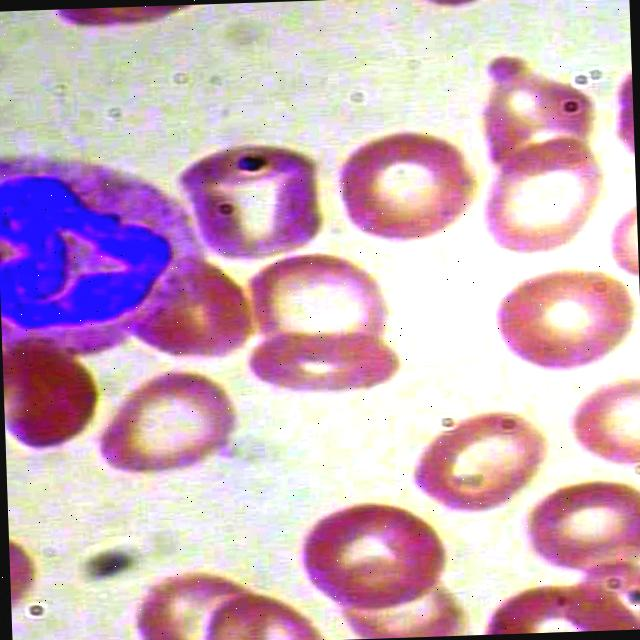RBC: (170, 139, 330, 270), (84, 358, 240, 481), (291, 496, 447, 618), (391, 396, 546, 518), (327, 125, 483, 246), (241, 252, 394, 374), (471, 130, 608, 265), (462, 51, 598, 180), (490, 263, 640, 376), (516, 473, 640, 579), (241, 320, 401, 400), (1, 332, 102, 453)
WBC: (0, 132, 215, 359)
